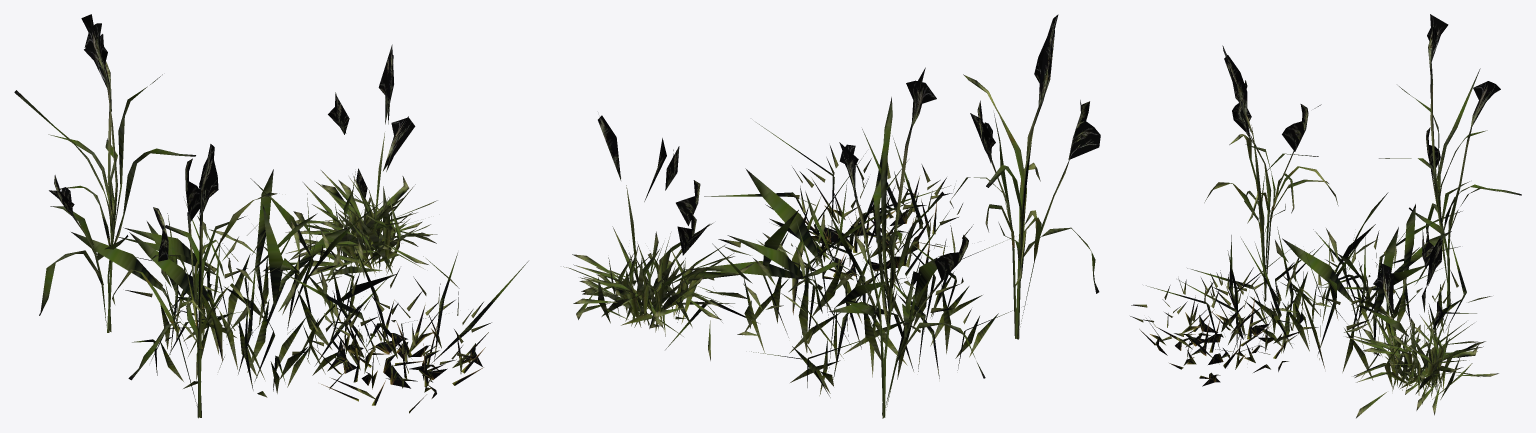
The model's file is grass.glb.
3 renders of one model, left to right at view 1: azimuth 30°, elevation 25°; view 2: azimuth 150°, elevation 25°; view 3: azimuth 270°, elevation 25°, orthographic. The views are drawn at different scales.
Visible parts, largest first — view 1: grass_medium_01_large_a_LOD0; view 2: grass_medium_01_large_a_LOD0; view 3: grass_medium_01_large_a_LOD0.
Boxes of the visible parts, x1,y1,x2,y2 form: grass_medium_01_large_a_LOD0: (14,14,528,418); grass_medium_01_large_a_LOD0: (563,14,1100,418); grass_medium_01_large_a_LOD0: (1130,14,1521,418).
Size of the model in its own units: 0.6612 by 0.5161 by 0.649.
Materials: 1 (1 with a texture image).
